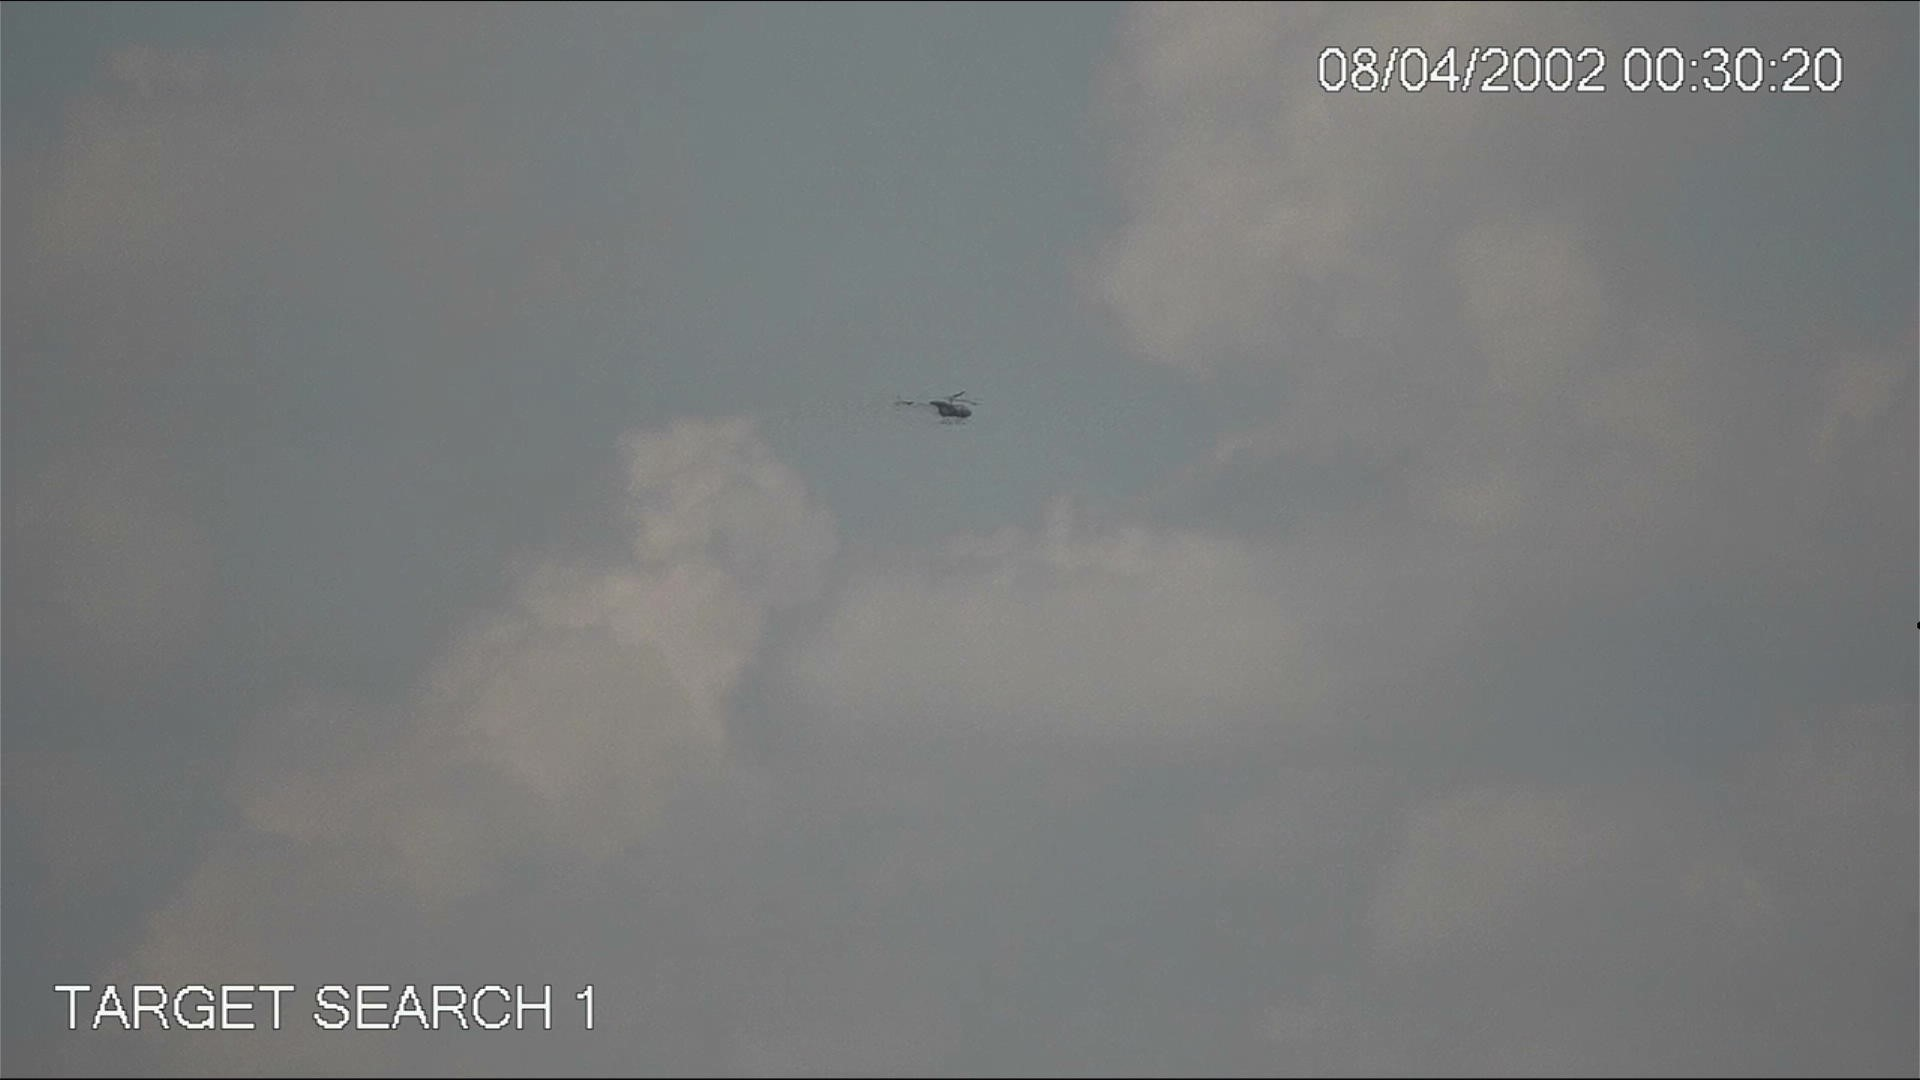SU_30: (894, 386, 984, 425)
